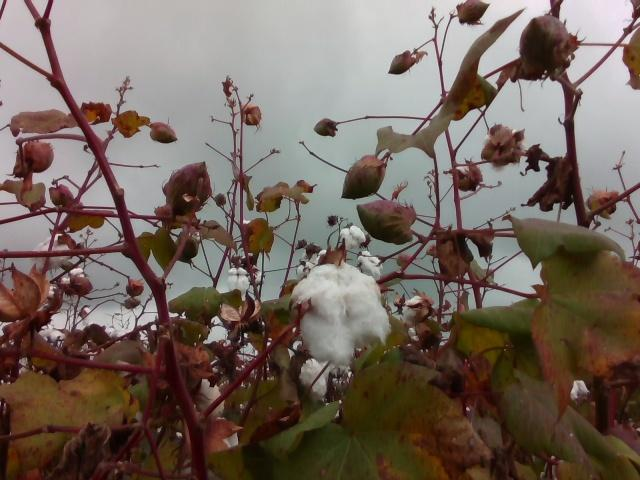cotton_ready: (294, 267, 390, 362), (173, 378, 226, 432), (294, 362, 328, 403), (217, 430, 242, 452)
